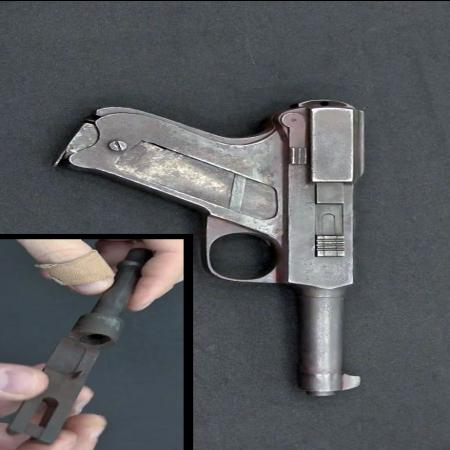Pistol: (49, 96, 374, 400)
